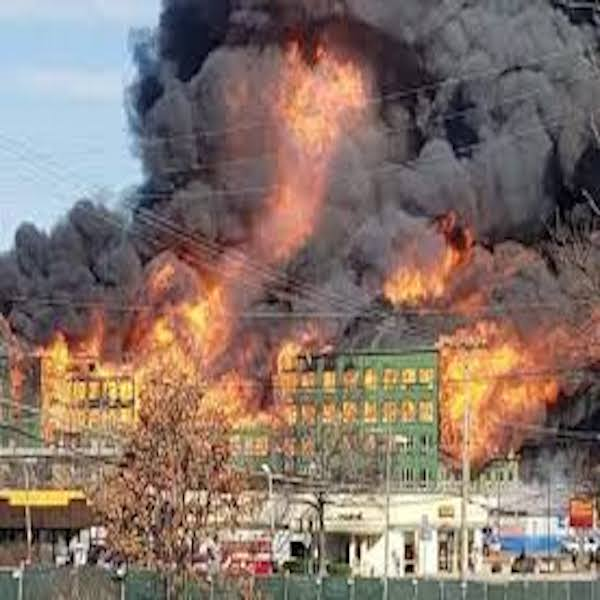fire: (226, 61, 476, 322), (33, 320, 247, 439), (434, 330, 585, 447), (276, 342, 430, 423), (157, 323, 230, 383)
